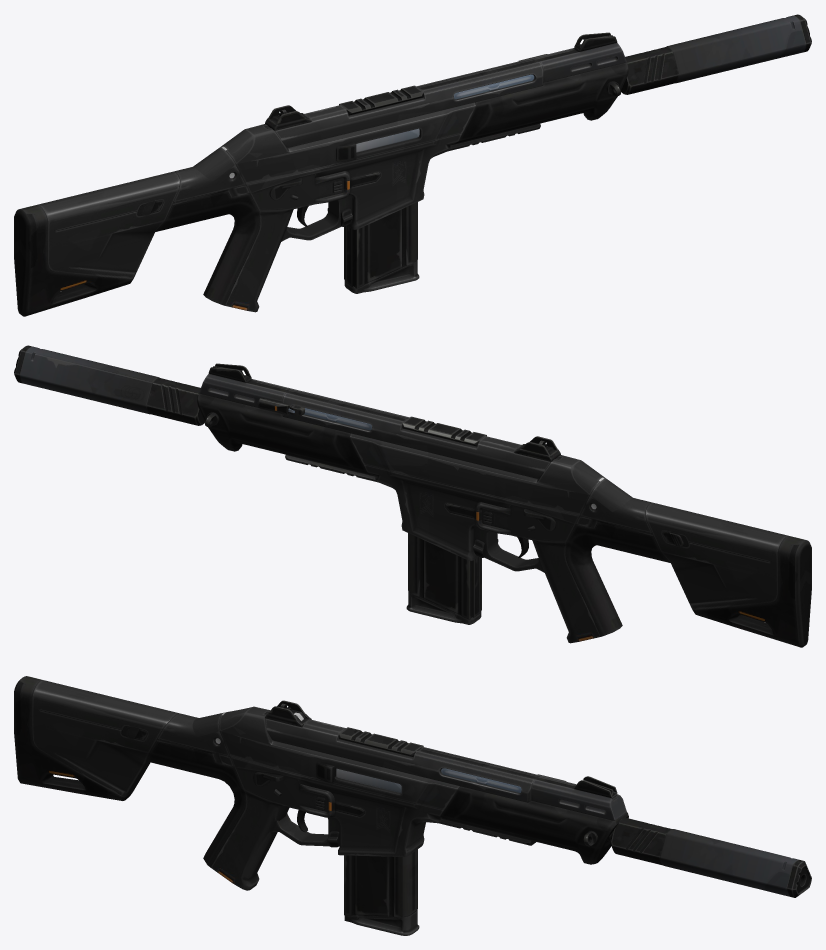
Rendered from phantom.glb.
3 renders of one model, top to bottom at view 1: azimuth 30°, elevation 25°; view 2: azimuth 150°, elevation 25°; view 3: azimuth 330°, elevation 25°, orthographic.
Visible parts, largest first — view 1: GN_Carbine_S0_Skelmesh_LOD0_1, GN_Silencer_S0_Staticmesh_LOD0.002, GN_Carbine_Magazine_S0_Staticmesh_LOD0; view 2: GN_Carbine_S0_Skelmesh_LOD0_1, GN_Silencer_S0_Staticmesh_LOD0.002, GN_Carbine_Magazine_S0_Staticmesh_LOD0; view 3: GN_Carbine_S0_Skelmesh_LOD0_1, GN_Silencer_S0_Staticmesh_LOD0.002, GN_Carbine_Magazine_S0_Staticmesh_LOD0.
Part boxes in pixels (x1,y1,x2,y2): GN_Carbine_S0_Skelmesh_LOD0_1: [14, 32, 628, 316]; GN_Silencer_S0_Staticmesh_LOD0.002: [620, 14, 811, 94]; GN_Carbine_Magazine_S0_Staticmesh_LOD0: [344, 202, 419, 293]; GN_Carbine_S0_Skelmesh_LOD0_1: [197, 363, 811, 647]; GN_Silencer_S0_Staticmesh_LOD0.002: [14, 345, 205, 425]; GN_Carbine_Magazine_S0_Staticmesh_LOD0: [406, 533, 481, 624]; GN_Carbine_S0_Skelmesh_LOD0_1: [14, 676, 628, 890]; GN_Silencer_S0_Staticmesh_LOD0.002: [609, 817, 811, 897]; GN_Carbine_Magazine_S0_Staticmesh_LOD0: [344, 849, 419, 935].
Bounding box in the file's own units: 1 × 0.2387 × 0.0737.
3 materials, 2 textured.
